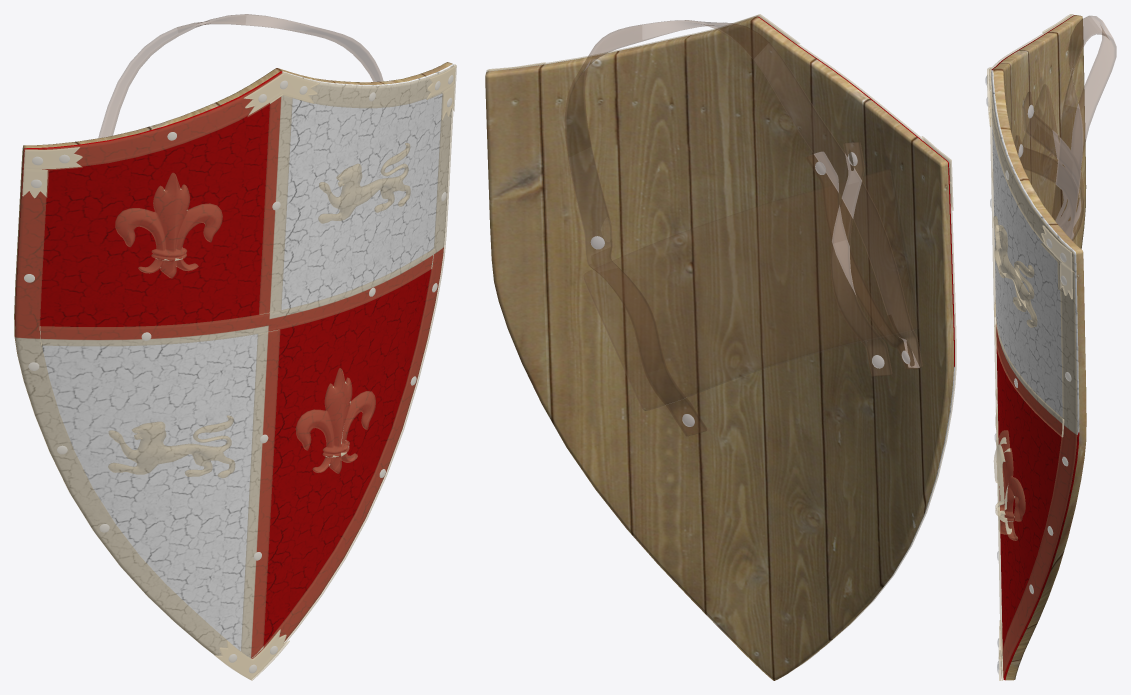
The model's file is shield.glb.
3 views of the same model, side by side, from view 1: azimuth 30°, elevation 25°; view 2: azimuth 150°, elevation 25°; view 3: azimuth 270°, elevation 25° (orthographic). The views are drawn at different scales.
Visible parts, largest first — view 1: 13036_Heater_Shield_v2_l2; view 2: 13036_Heater_Shield_v2_l2; view 3: 13036_Heater_Shield_v2_l2.
Part boxes in pixels (x1,y1,x2,y2): 13036_Heater_Shield_v2_l2: [14, 14, 456, 680]; 13036_Heater_Shield_v2_l2: [485, 14, 956, 680]; 13036_Heater_Shield_v2_l2: [985, 14, 1116, 680].
Size of the model in its own units: 1.38 by 1.9 by 0.3457.
4 materials, 2 textured.
